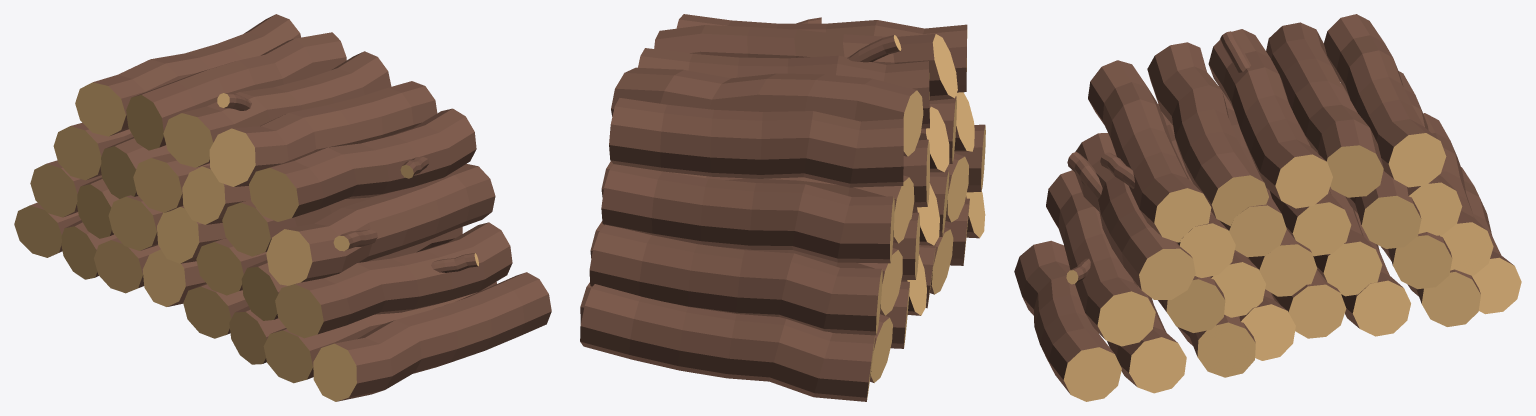
Rendered from Wood Pile.glb.
The picture shows the model from 3 angles, left to right: view 1: azimuth 30°, elevation 25°; view 2: azimuth 150°, elevation 25°; view 3: azimuth 270°, elevation 25°; orthographic projection. The views are drawn at different scales.
Parts seen in each view (by area): view 1: group538861481, group355967482, group563753358, group1106180143, group1848351147, group1972417732, group1139732488, group312684487, group66307505, group193797384, group664606928, group889430833 (+17 smaller); view 2: group312684487, group664606928, group216179807, group1057746760, group1972417732, group1848351147, group1139732488, group1106180143, group1195377041, group616709193, group889430833, group290488084 (+15 smaller); view 3: group1848351147, group1106180143, group1139732488, group1972417732, group312684487, group538861481, group355967482, group563753358, group1195377041, group1057746760, group66307505, group726707995 (+17 smaller).
Part boxes in pixels (box(x1,y1,x2,y2)): group538861481: box(313, 272, 551, 401); group355967482: box(275, 222, 512, 338); group563753358: box(266, 164, 495, 285); group1106180143: box(249, 108, 476, 221); group1848351147: box(209, 81, 437, 186); group1972417732: box(126, 32, 346, 150); group1139732488: box(163, 51, 391, 167); group312684487: box(75, 14, 301, 136); group66307505: box(263, 281, 496, 383); group193797384: box(222, 194, 384, 256); group664606928: box(53, 122, 133, 180); group889430833: box(133, 153, 209, 212); group312684487: box(609, 98, 903, 187); group664606928: box(601, 164, 894, 263); group216179807: box(580, 284, 874, 401); group1057746760: box(589, 224, 882, 335); group1972417732: box(611, 67, 923, 156); group1848351147: box(654, 25, 957, 100); group1139732488: box(638, 48, 929, 128); group1106180143: box(676, 14, 967, 92); group1195377041: box(601, 161, 914, 243); group616709193: box(590, 221, 902, 315); group889430833: box(903, 139, 929, 207); group290488084: box(918, 106, 949, 172); group1848351147: box(1147, 42, 1268, 226); group1106180143: box(1088, 60, 1211, 242); group1139732488: box(1208, 29, 1332, 208); group1972417732: box(1266, 22, 1383, 197); group312684487: box(1324, 14, 1446, 187); group538861481: box(1014, 240, 1121, 401); group355967482: box(1046, 170, 1155, 346); group563753358: box(1075, 133, 1195, 299); group1195377041: box(1341, 83, 1421, 248); group1057746760: box(1423, 113, 1493, 275); group66307505: box(1107, 285, 1186, 393); group726707995: box(1313, 187, 1382, 296).
Bounding box in the file's own units: 0.9356 × 0.6571 × 1.17.
